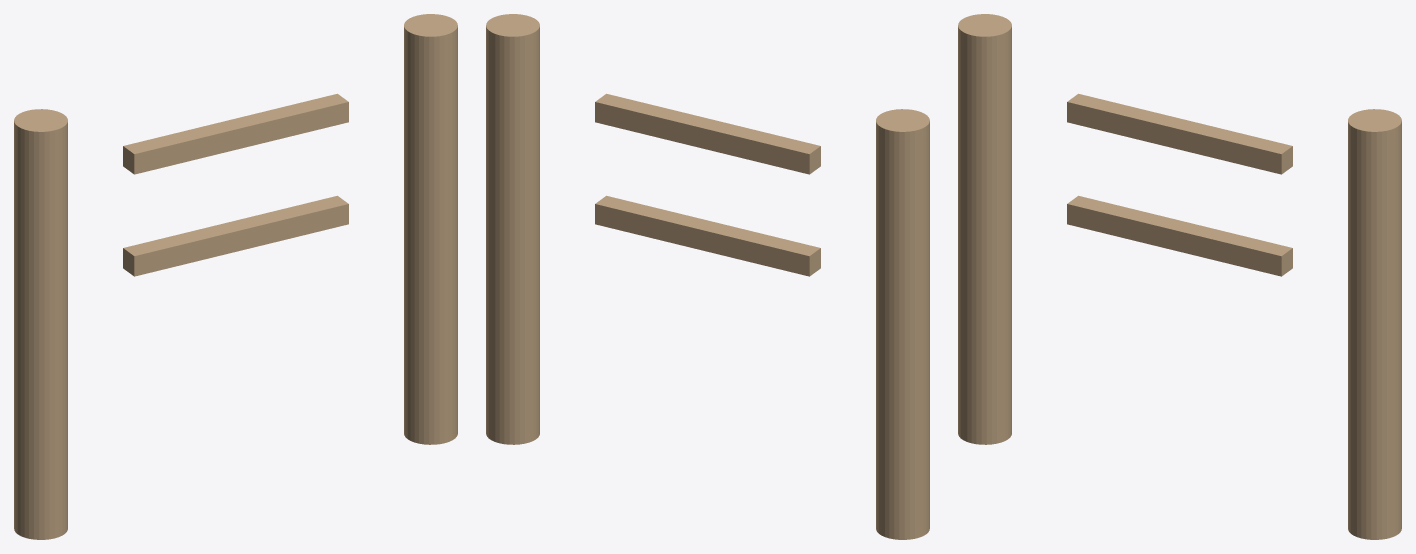
The model's file is fence_01.glb.
The picture shows the model from 3 angles, left to right: view 1: azimuth 30°, elevation 25°; view 2: azimuth 150°, elevation 25°; view 3: azimuth 330°, elevation 25°; orthographic projection.
Parts seen in each view (by area): view 1: Fence; view 2: Fence; view 3: Fence.
Part boxes in pixels (x1,y1,x2,y2): Fence: [14, 14, 457, 539]; Fence: [486, 14, 929, 539]; Fence: [958, 14, 1401, 539].
Size of the model in its own units: 1.12 by 1 by 0.12.
